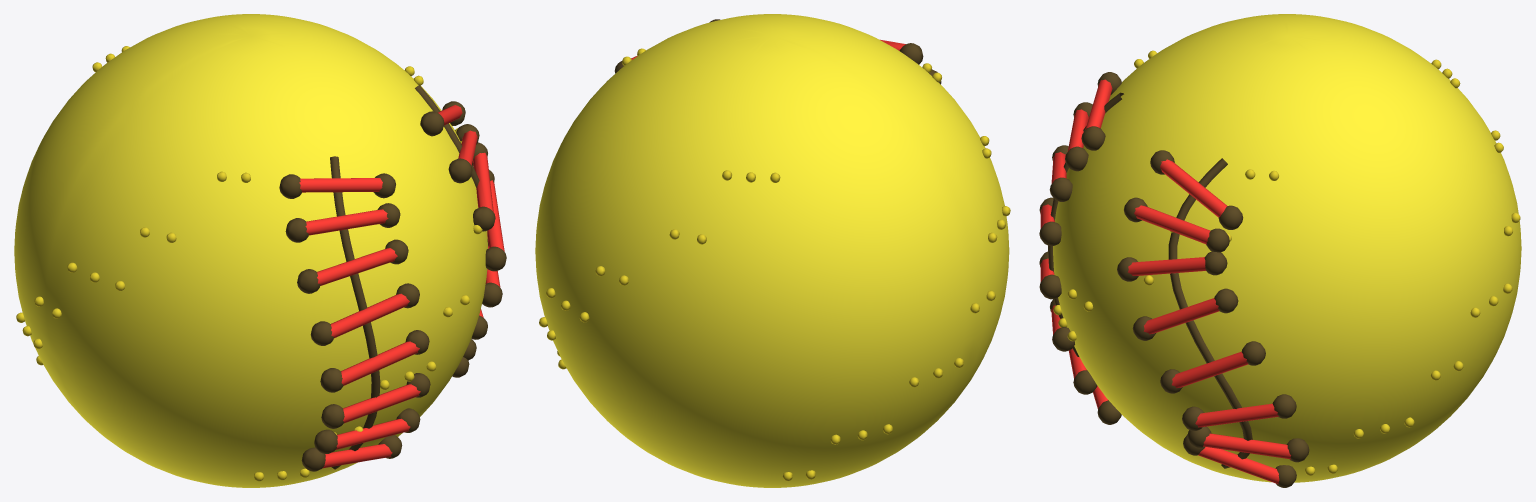
Rendered from Softball1_3D_v2.glb.
3 views of the same model, side by side, from view 1: azimuth 30°, elevation 25°; view 2: azimuth 150°, elevation 25°; view 3: azimuth 270°, elevation 25° (orthographic).
Visible parts, largest first — view 1: Softball1_3D_v2__web_yellow_laced_softball_leather_body, Softball1_3D_v2__web_dark_recessed_softball_lace_grooves, Softball1_3D_v2__web_raised_red_woven_softball_laces, Softball1_3D_v2__web_subtle_yellow_pebbled_laced_softball_te; view 2: Softball1_3D_v2__web_yellow_laced_softball_leather_body, Softball1_3D_v2__web_subtle_yellow_pebbled_laced_softball_te; view 3: Softball1_3D_v2__web_yellow_laced_softball_leather_body, Softball1_3D_v2__web_dark_recessed_softball_lace_grooves, Softball1_3D_v2__web_raised_red_woven_softball_laces, Softball1_3D_v2__web_subtle_yellow_pebbled_laced_softball_te.
Part boxes in pixels (<box>): Softball1_3D_v2__web_yellow_laced_softball_leather_body: <box>14,14,487,487</box>; Softball1_3D_v2__web_dark_recessed_softball_lace_grooves: <box>279,85,506,471</box>; Softball1_3D_v2__web_raised_red_woven_softball_laces: <box>299,105,504,468</box>; Softball1_3D_v2__web_subtle_yellow_pebbled_laced_softball_te: <box>16,46,482,481</box>; Softball1_3D_v2__web_yellow_laced_softball_leather_body: <box>535,14,1009,487</box>; Softball1_3D_v2__web_subtle_yellow_pebbled_laced_softball_te: <box>539,48,1010,481</box>; Softball1_3D_v2__web_yellow_laced_softball_leather_body: <box>1053,14,1521,482</box>; Softball1_3D_v2__web_dark_recessed_softball_lace_grooves: <box>1039,72,1309,487</box>; Softball1_3D_v2__web_raised_red_woven_softball_laces: <box>1040,79,1290,484</box>; Softball1_3D_v2__web_subtle_yellow_pebbled_laced_softball_te: <box>1053,50,1520,475</box>.
Size of the model in its own units: 0.3998 by 0.38 by 0.3908.
